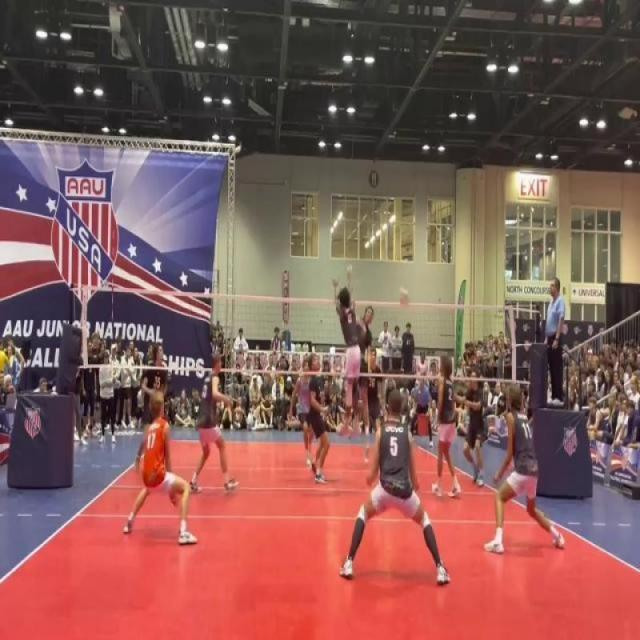volleyball: (398, 287, 410, 310)
